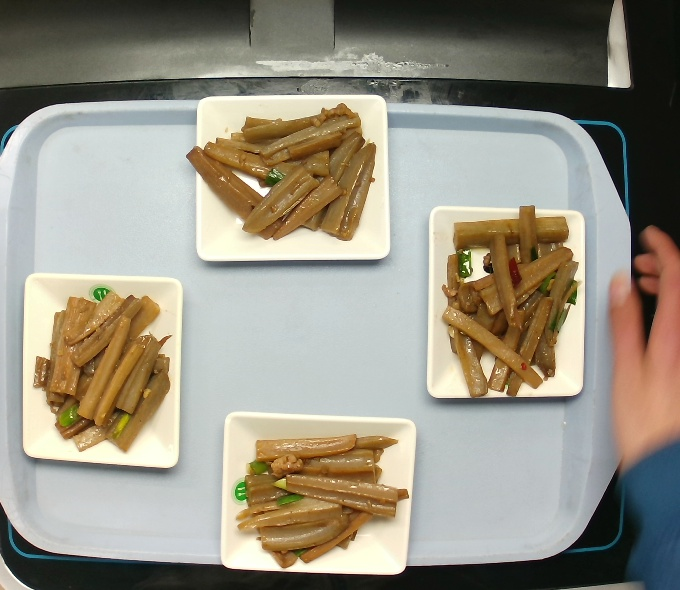wcq-QingChaoOuKuai: (226, 418, 413, 566), (199, 94, 371, 244), (451, 204, 568, 395), (30, 290, 173, 443)
